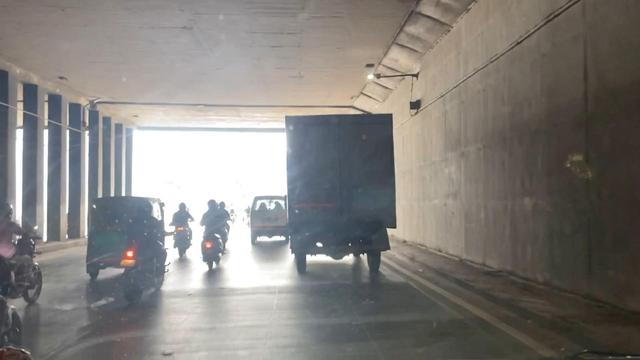HMV: (288, 117, 396, 264)
LMV: (119, 201, 176, 288), (196, 193, 236, 268), (244, 194, 288, 234), (173, 194, 191, 260)
